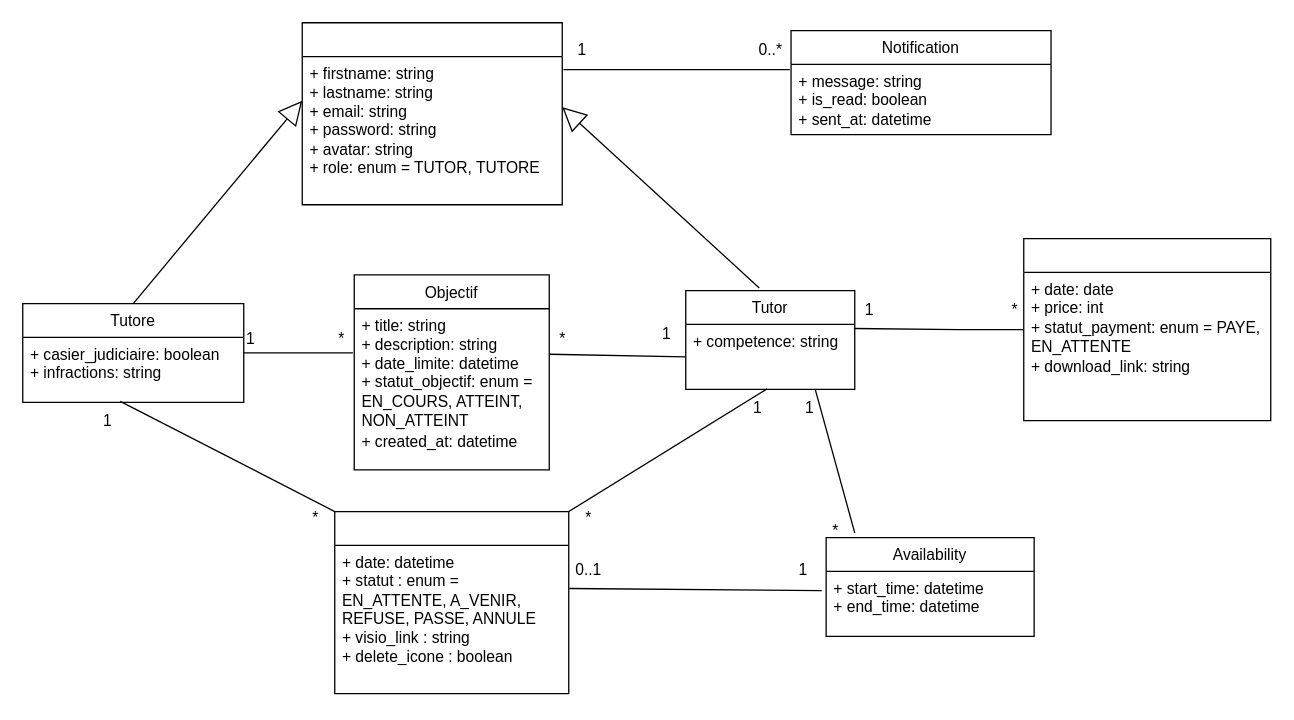
Some shapes in this 1294 by 720 pixel diagram are drawn without their labels. The box of each missing label's shape, as (x1, y1, x2, y2) in pixels:
Invoice: (1022, 237, 1271, 421)
Meeting: (333, 510, 569, 694)
User: (301, 21, 562, 205)
